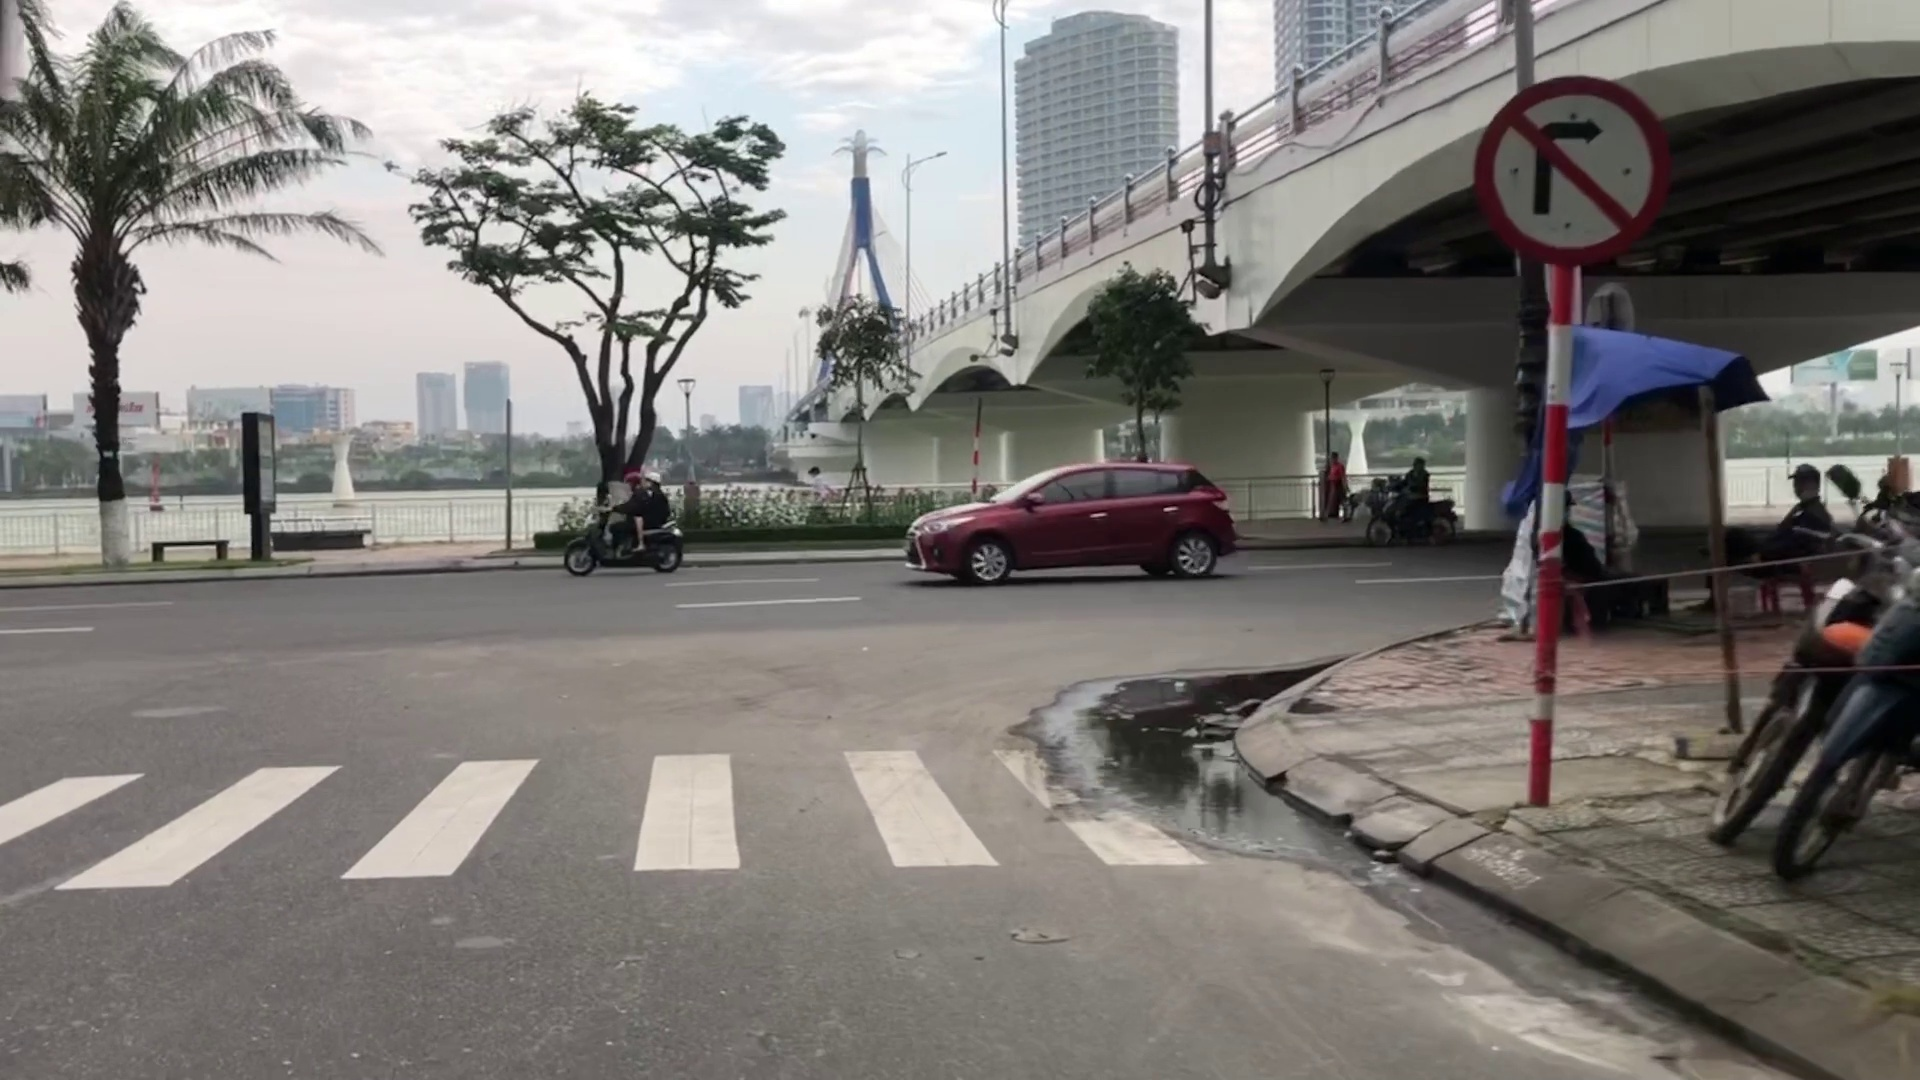Bien khac: (1472, 70, 1673, 277)
